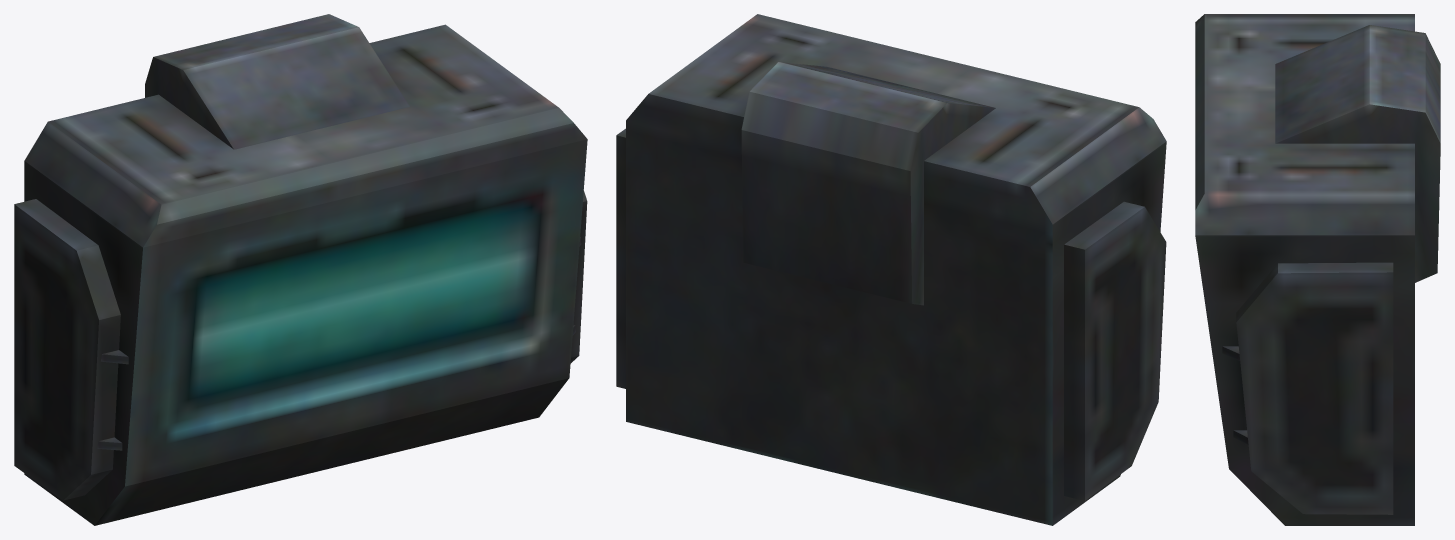
Rendered from yw_gonghuilingdi_xiaowujian04.FBX.
3 views of the same model, side by side, from view 1: azimuth 30°, elevation 25°; view 2: azimuth 150°, elevation 25°; view 3: azimuth 270°, elevation 25° (orthographic). The views are drawn at different scales.
Visible parts, largest first — view 1: yw_gonghuilingdi_xiaowujian04; view 2: yw_gonghuilingdi_xiaowujian04; view 3: yw_gonghuilingdi_xiaowujian04.
Part boxes in pixels (x1=…): yw_gonghuilingdi_xiaowujian04: x1=14, y1=14, x2=587, y2=525; yw_gonghuilingdi_xiaowujian04: x1=616, y1=14, x2=1166, y2=525; yw_gonghuilingdi_xiaowujian04: x1=1195, y1=14, x2=1440, y2=525.
Size of the model in its own units: 83.69 by 63.83 by 39.37.
